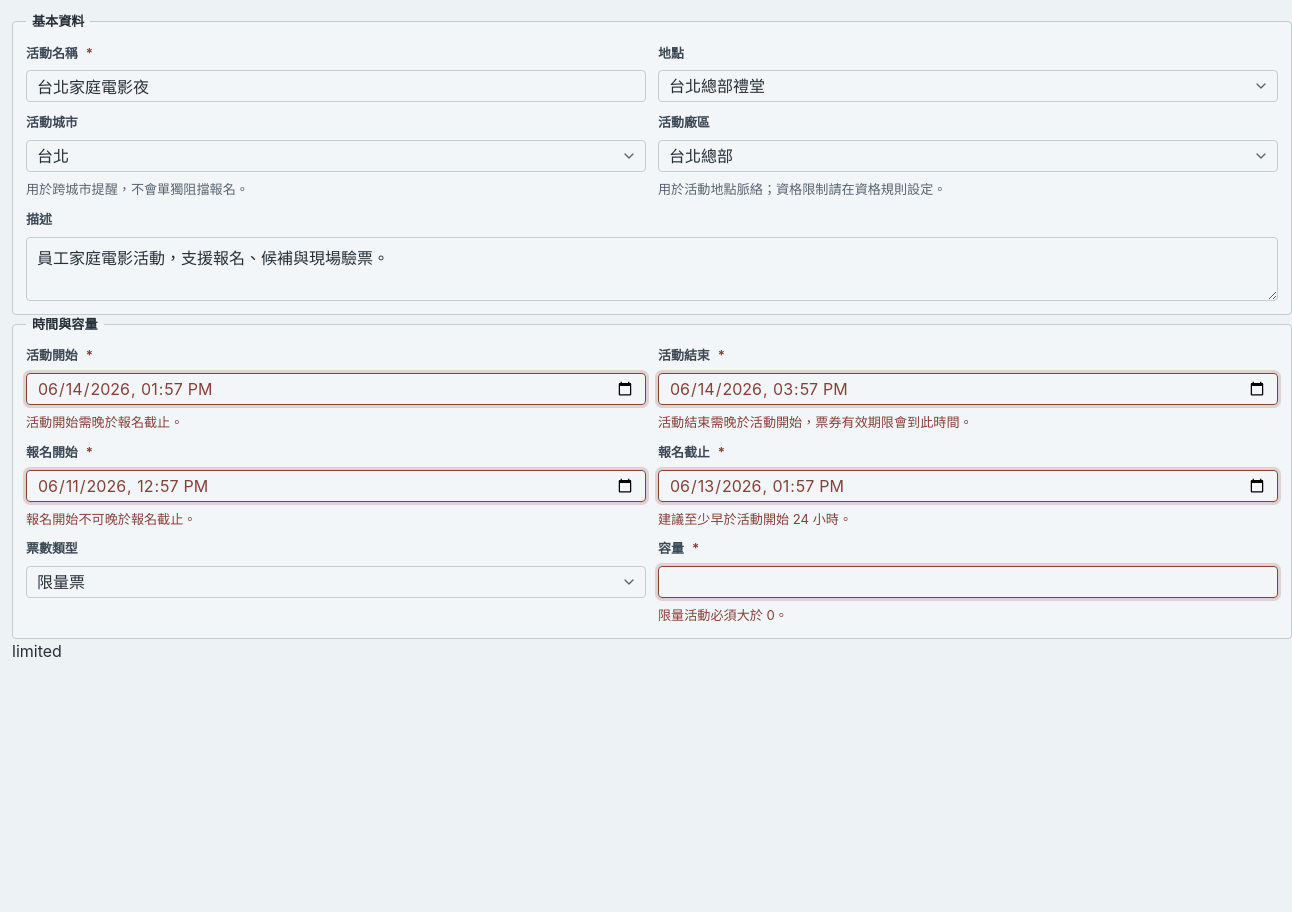
Scenario: admin event form controls › keeps capacity invariants visible when switching limited and unlimited modes
Click the dropdown named "票數類型": (61, 582) x1=26 y1=566 x2=646 y2=598
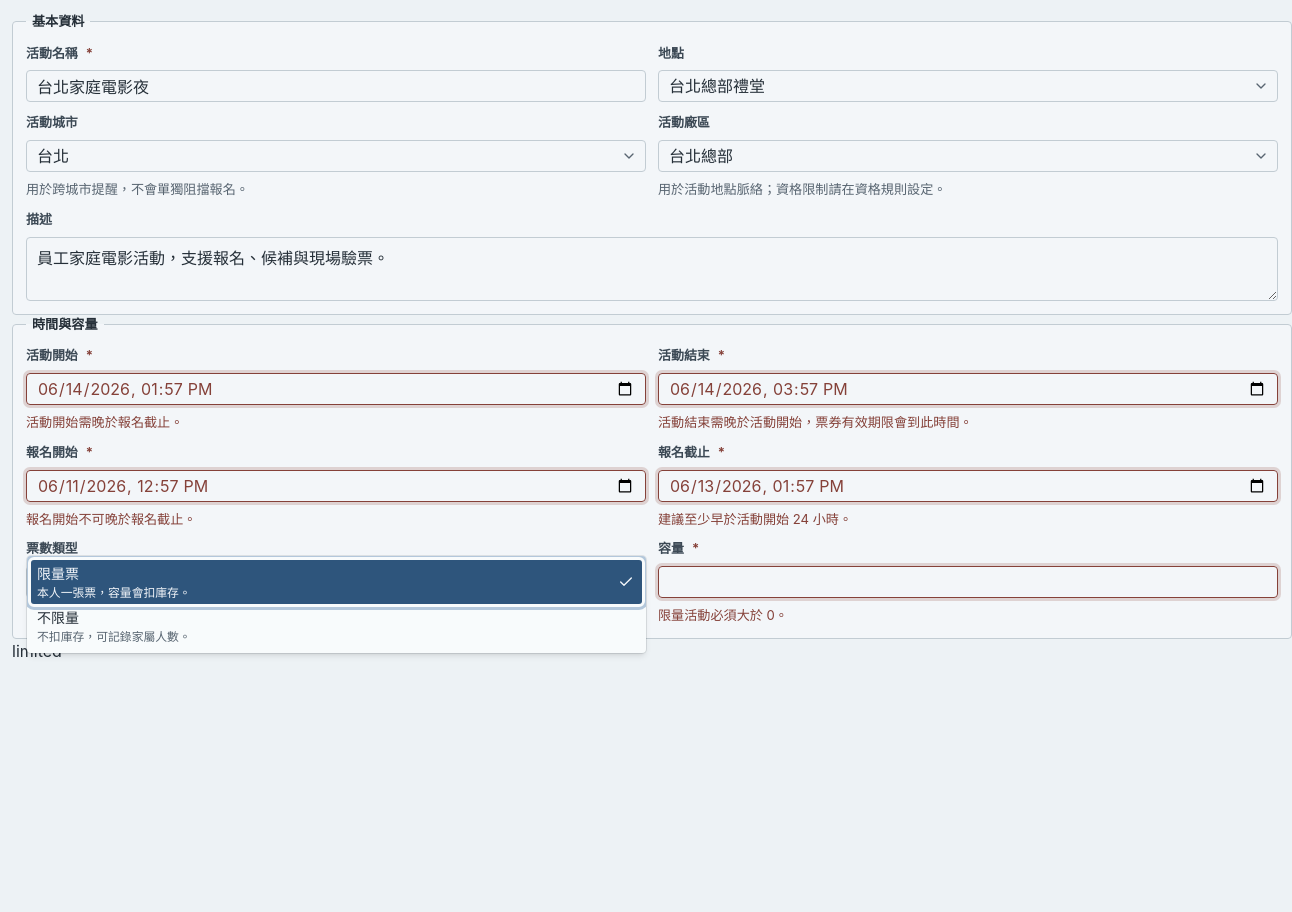
Click the option "不限量 不扣庫存，可記錄家屬人數。": (58, 618) x1=37 y1=609 x2=191 y2=644
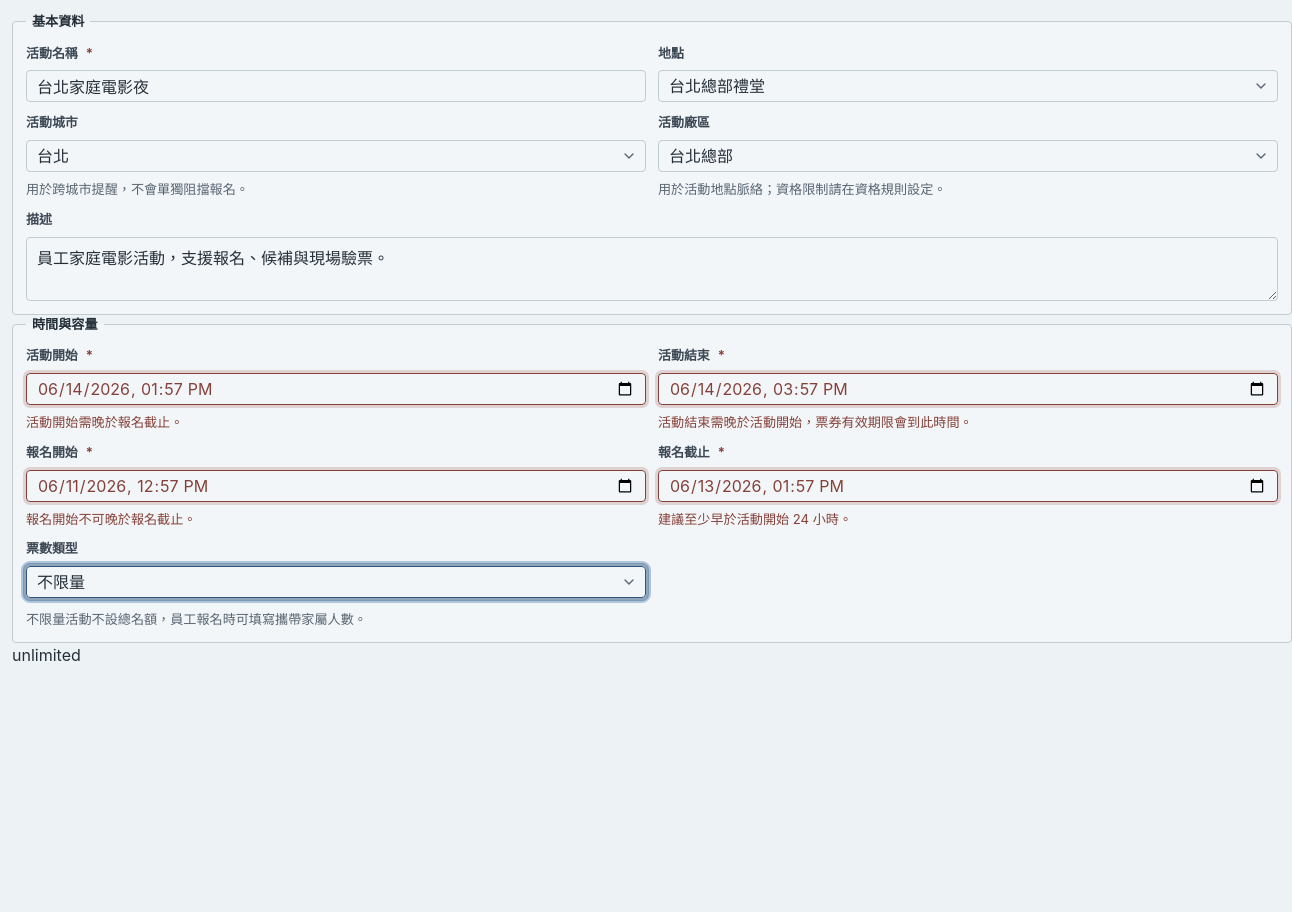
Check: the text with test id "capacity-type" reads "unlimited", box x1=12 y1=645 x2=81 y2=665
Check: the text "不限量活動不設總名額，員工報名時可填寫攜帶家屬人數。" is shown, box x1=26 y1=611 x2=367 y2=627
